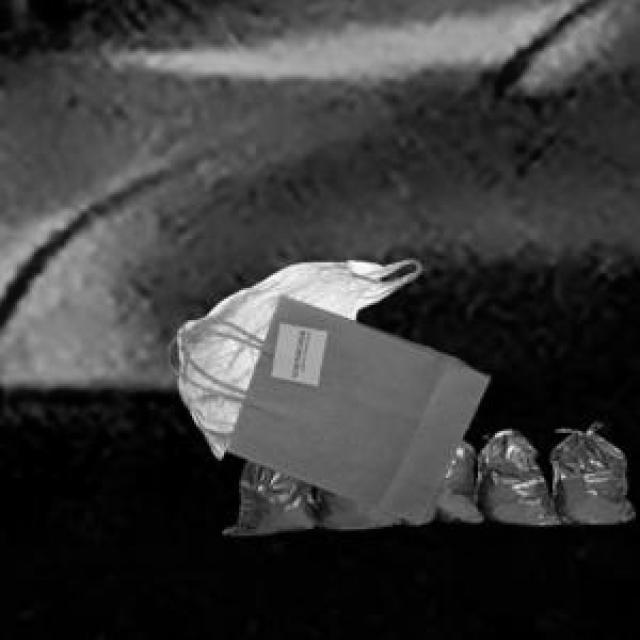miscellaneous trash: (220, 427, 632, 531)
paper: (192, 292, 486, 521)
